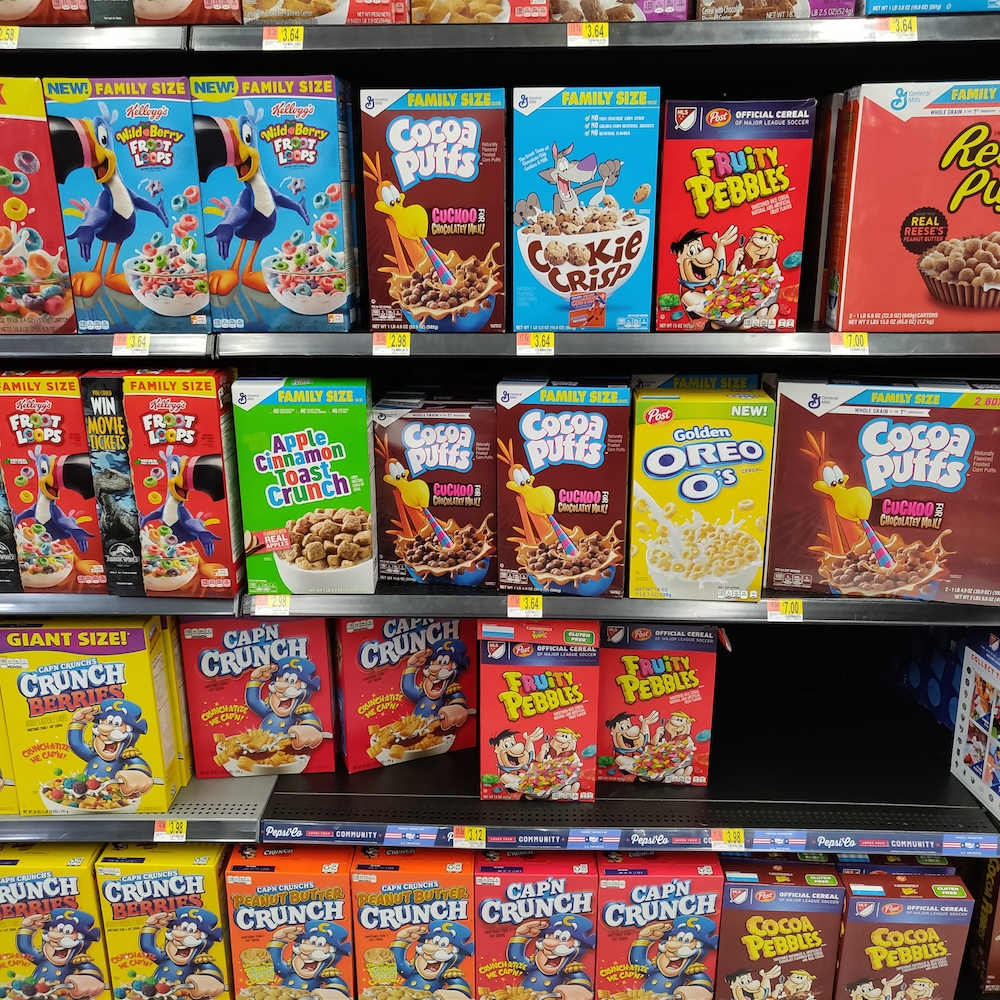Cocoa Pebbles-555517893: (841, 903, 972, 1000), (725, 884, 826, 1000)
Oreo Golden-568301011: (636, 403, 762, 597)
